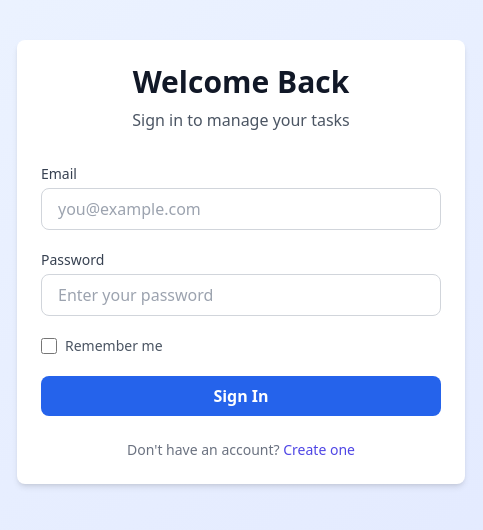
LoginView › should clear field error on input
The image size is (483, 530).
Submit the form, box [41, 164, 441, 416]
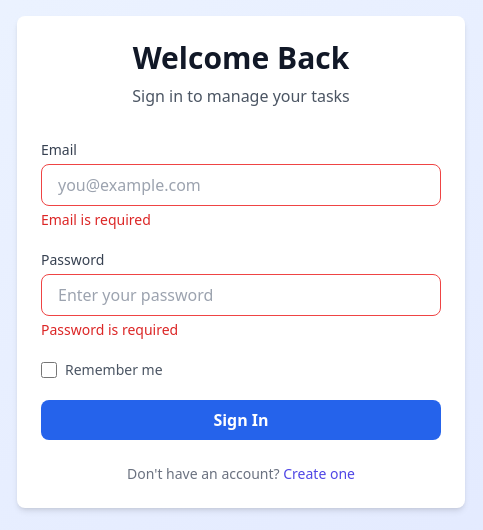
Now the text "Email is required" is shown, box [41, 210, 151, 229]
Type "a" into the field with id "email".
click(241, 185); type("a")  # box [41, 164, 441, 206]
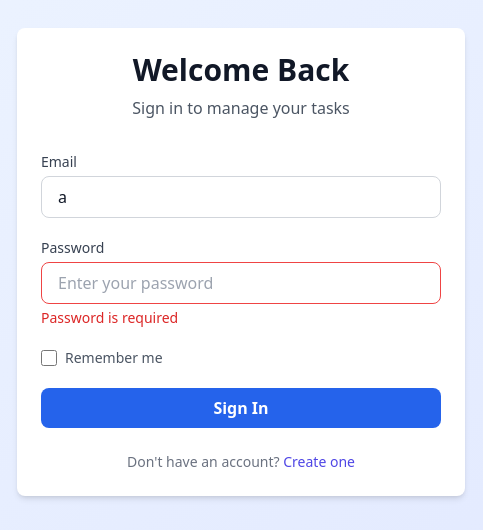
Now the text "Email is required" is gone
